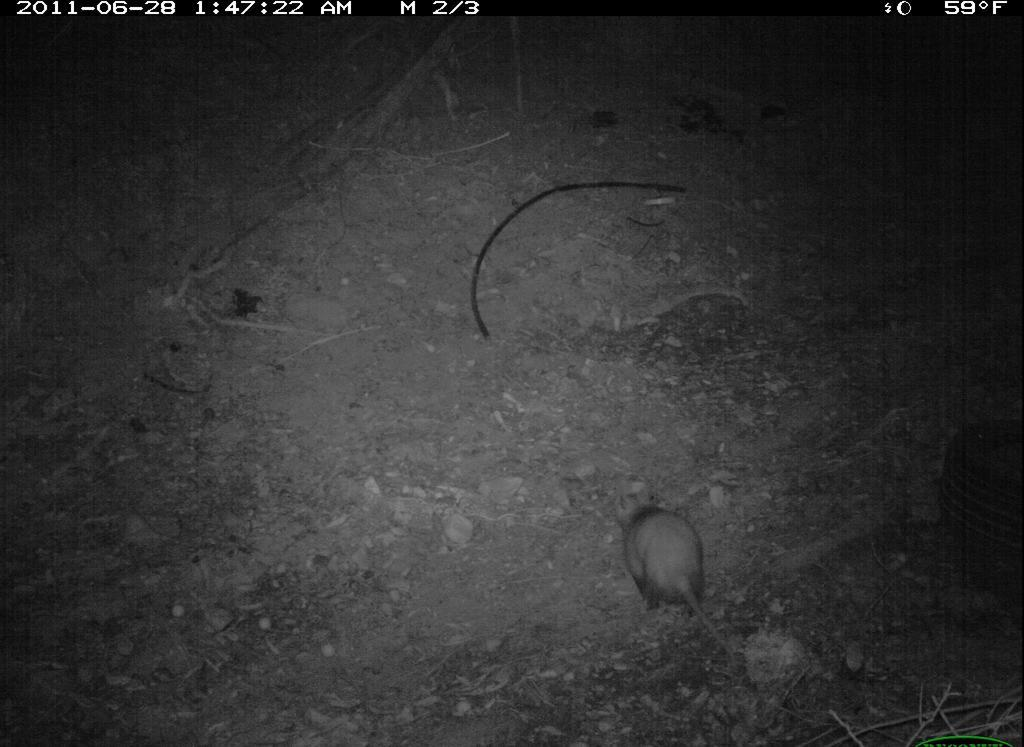opossum: (603, 474, 756, 666)
